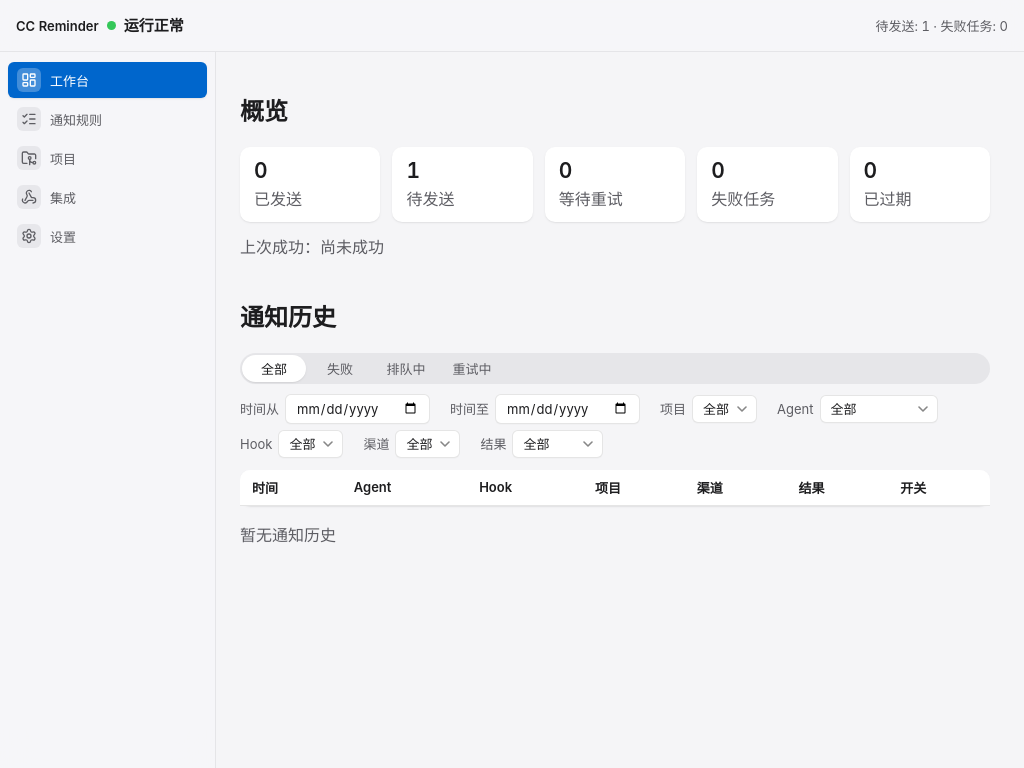
it: navigation is keyboard accessible and remembers the selected page
Expected: the navigation bar is shown, [0,52,216,767]
Step 1. Click the button "通知规则" → (108, 119), box [8,101,207,137]
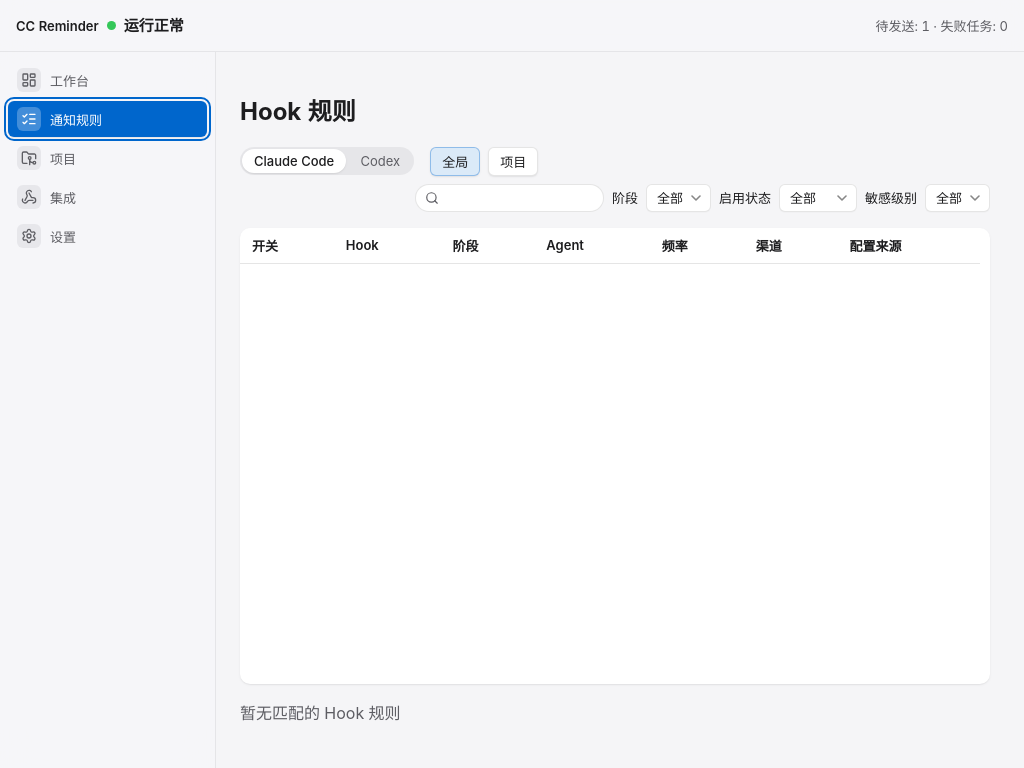
Expected: the heading "Hook 规则" is shown, [240,97,356,126]
